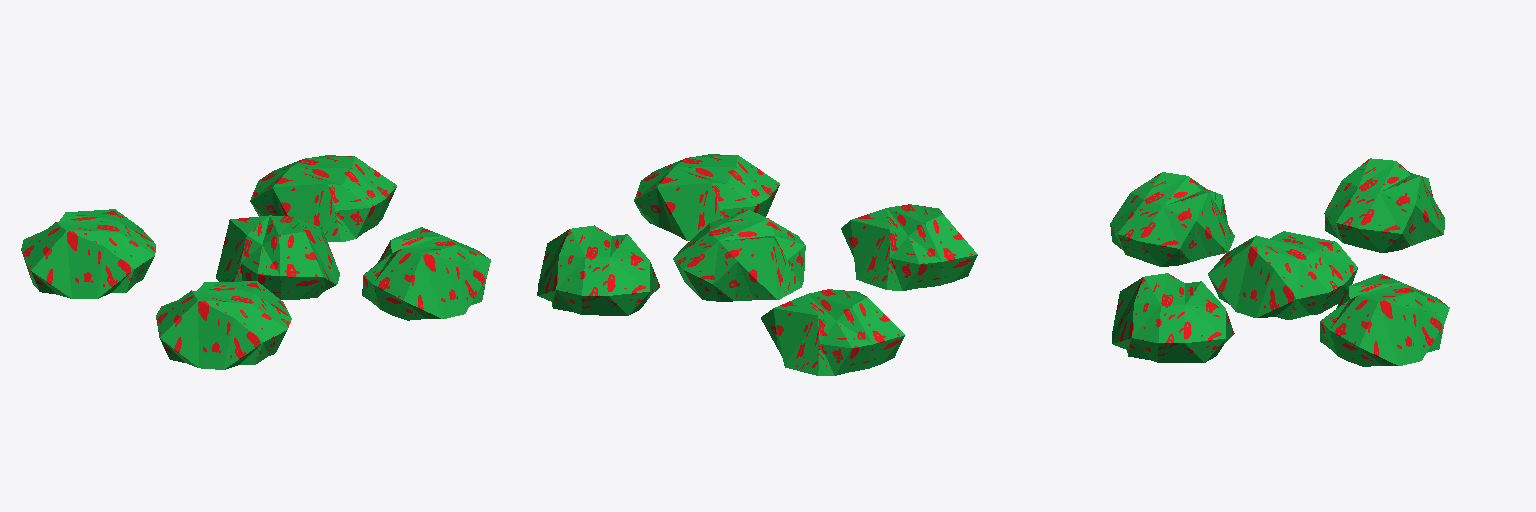
The picture shows the model from 3 angles: view 1: azimuth 30°, elevation 25°; view 2: azimuth 150°, elevation 25°; view 3: azimuth 270°, elevation 25°; orthographic projection.
Parts seen in each view (by area): view 1: polySurface1; view 2: polySurface1; view 3: polySurface1.
Part boxes in pixels (left/top/right/bottom): polySurface1: left=21, top=155, right=490, bottom=369; polySurface1: left=537, top=154, right=977, bottom=375; polySurface1: left=1110, top=158, right=1449, bottom=366.
Bounding box in the file's own units: 5.92 × 0.8485 × 4.81.
5 materials, 1 textured.